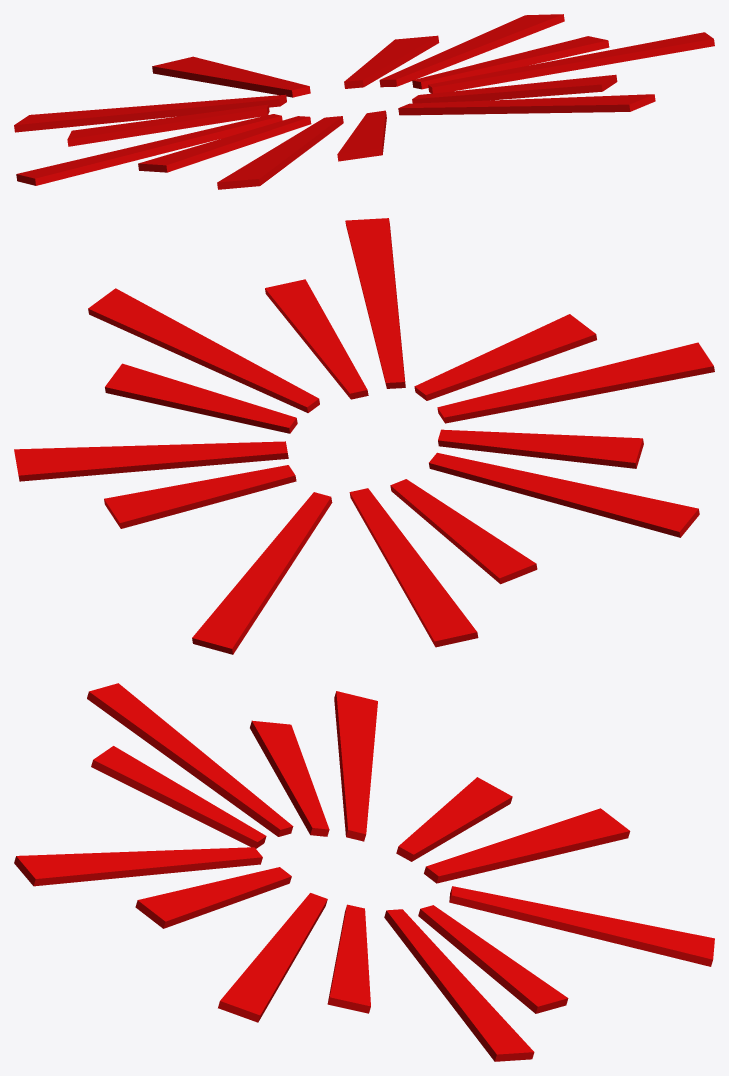
File: yellow h.fbx
3 renders of one model, top to bottom at view 1: azimuth 30°, elevation 25°; view 2: azimuth 150°, elevation 25°; view 3: azimuth 270°, elevation 25°, orthographic. The views are drawn at different scales.
Visible parts, largest first — view 1: polySurface38; view 2: polySurface38; view 3: polySurface38.
Part boxes in pixels (x1,y1,x2,y2): polySurface38: (14, 14, 714, 189); polySurface38: (14, 218, 714, 654); polySurface38: (14, 683, 714, 1061).
Size of the model in its own units: 13.76 by 3.31 by 11.88.
